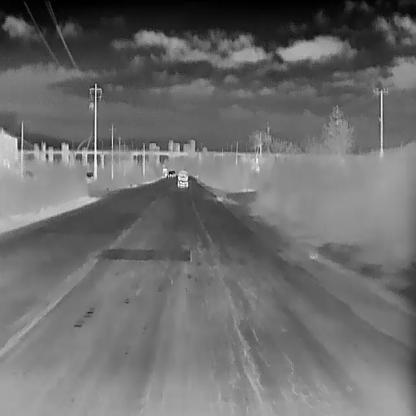car: (176, 169, 188, 187), (84, 170, 93, 180), (166, 170, 174, 176)
